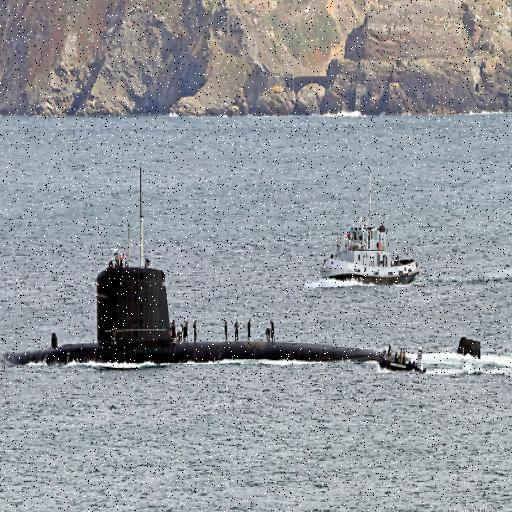submarine: (1, 262, 486, 371)
